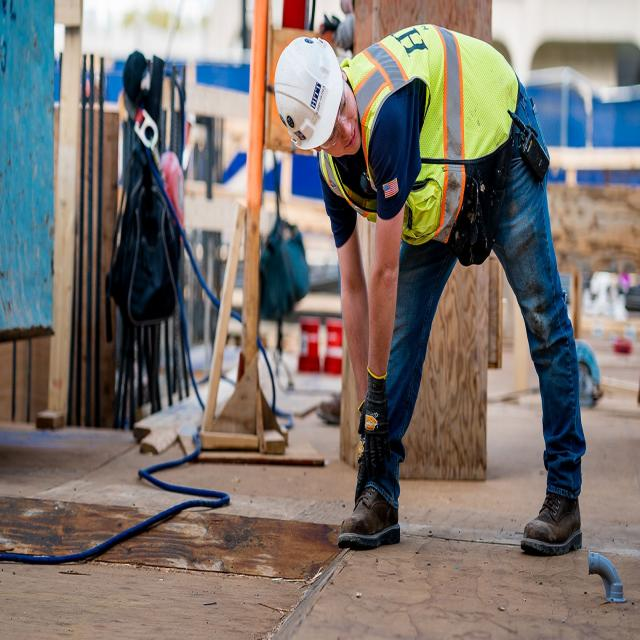Reflective-Jacket: (322, 22, 522, 253)
Safety-Helmet: (273, 30, 344, 156)
